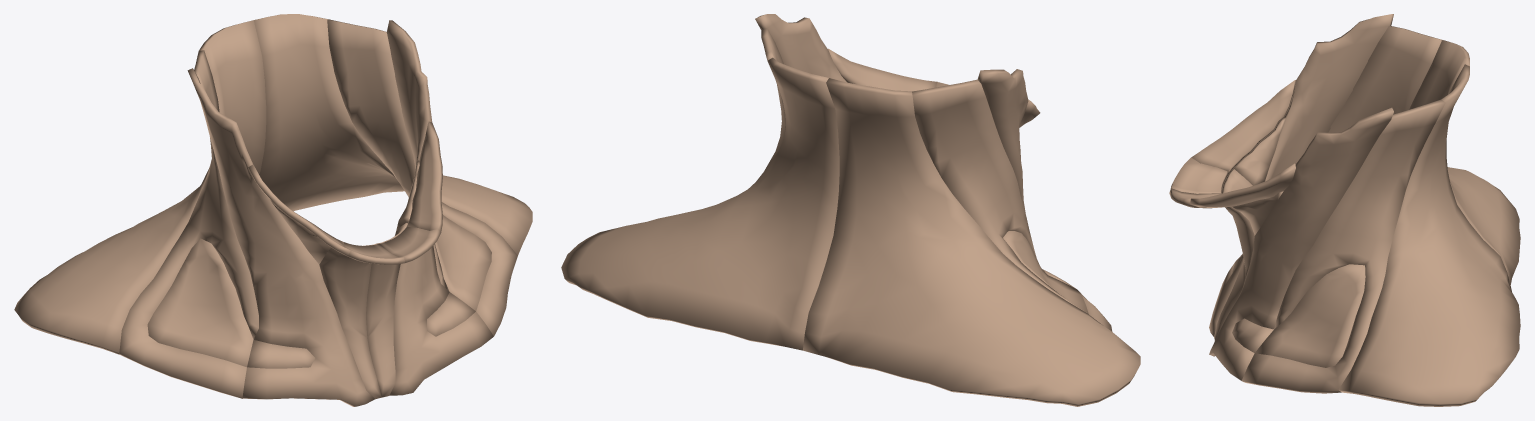
Rendered from detail-integumentary-neck.glb.
3 views of the same model, side by side, from view 1: azimuth 30°, elevation 25°; view 2: azimuth 150°, elevation 25°; view 3: azimuth 270°, elevation 25° (orthographic). The views are drawn at different scales.
Parts seen in each view (by area): view 1: za-f125ef7fdb691b01, za-5c7ec6f1ae1ecb70, za-d7eb848b6eddabd7, za-03f5ac1fe6a3479e, za-09b07dbc7b79cc00, za-8d29dbfd69937b1d, za-e9404847eccd5841, za-095ec1a57a0136c6, za-e0134eb9832718bf, za-1fbb20b0196ad837, za-fa223a85ed6bf470, za-6759cc854f2133aa (+5 smaller); view 2: za-d7eb848b6eddabd7, za-f125ef7fdb691b01, za-09b07dbc7b79cc00, za-5c7ec6f1ae1ecb70, za-8d29dbfd69937b1d, za-fa223a85ed6bf470, za-e9404847eccd5841, za-03f5ac1fe6a3479e; view 3: za-f125ef7fdb691b01, za-03f5ac1fe6a3479e, za-8d29dbfd69937b1d, za-5c7ec6f1ae1ecb70, za-1fbb20b0196ad837, za-d7eb848b6eddabd7, za-09b07dbc7b79cc00, za-f85606407aa3aba0, za-fa223a85ed6bf470, za-48617d3be7cf13e8, za-7bfd8810de1b0950, za-095ec1a57a0136c6 (+4 smaller).
Boxes of the visible parts, x1=… form: za-f125ef7fdb691b01: x1=253, y1=14, x2=532, y2=254; za-5c7ec6f1ae1ecb70: x1=187, y1=68, x2=374, y2=406; za-d7eb848b6eddabd7: x1=14, y1=20, x2=266, y2=354; za-03f5ac1fe6a3479e: x1=327, y1=19, x2=517, y2=335; za-09b07dbc7b79cc00: x1=119, y1=50, x2=258, y2=398; za-8d29dbfd69937b1d: x1=386, y1=20, x2=493, y2=395; za-e9404847eccd5841: x1=147, y1=238, x2=253, y2=367; za-095ec1a57a0136c6: x1=319, y1=243, x2=381, y2=399; za-e0134eb9832718bf: x1=366, y1=223, x2=407, y2=397; za-1fbb20b0196ad837: x1=407, y1=195, x2=491, y2=310; za-fa223a85ed6bf470: x1=407, y1=121, x2=442, y2=232; za-6759cc854f2133aa: x1=247, y1=340, x2=315, y2=368; za-d7eb848b6eddabd7: x1=803, y1=78, x2=1140, y2=406; za-f125ef7fdb691b01: x1=561, y1=57, x2=839, y2=350; za-09b07dbc7b79cc00: x1=912, y1=79, x2=1112, y2=331; za-5c7ec6f1ae1ecb70: x1=977, y1=69, x2=1028, y2=212; za-8d29dbfd69937b1d: x1=755, y1=14, x2=846, y2=82; za-fa223a85ed6bf470: x1=828, y1=48, x2=937, y2=91; za-e9404847eccd5841: x1=1003, y1=231, x2=1088, y2=314; za-03f5ac1fe6a3479e: x1=761, y1=28, x2=785, y2=170; za-f125ef7fdb691b01: x1=1338, y1=64, x2=1520, y2=406; za-03f5ac1fe6a3479e: x1=1241, y1=99, x2=1445, y2=393; za-8d29dbfd69937b1d: x1=1209, y1=107, x2=1393, y2=380; za-5c7ec6f1ae1ecb70: x1=1209, y1=14, x2=1393, y2=336; za-1fbb20b0196ad837: x1=1255, y1=264, x2=1365, y2=367; za-d7eb848b6eddabd7: x1=1409, y1=40, x2=1520, y2=284; za-09b07dbc7b79cc00: x1=1328, y1=26, x2=1444, y2=132; za-f85606407aa3aba0: x1=1191, y1=80, x2=1295, y2=174; za-fa223a85ed6bf470: x1=1190, y1=163, x2=1295, y2=207; za-48617d3be7cf13e8: x1=1170, y1=157, x2=1227, y2=193; za-7bfd8810de1b0950: x1=1233, y1=118, x2=1285, y2=185; za-095ec1a57a0136c6: x1=1214, y1=169, x2=1252, y2=340.
Bounding box in the file's own units: 0.2915 × 0.163 × 0.1835.
